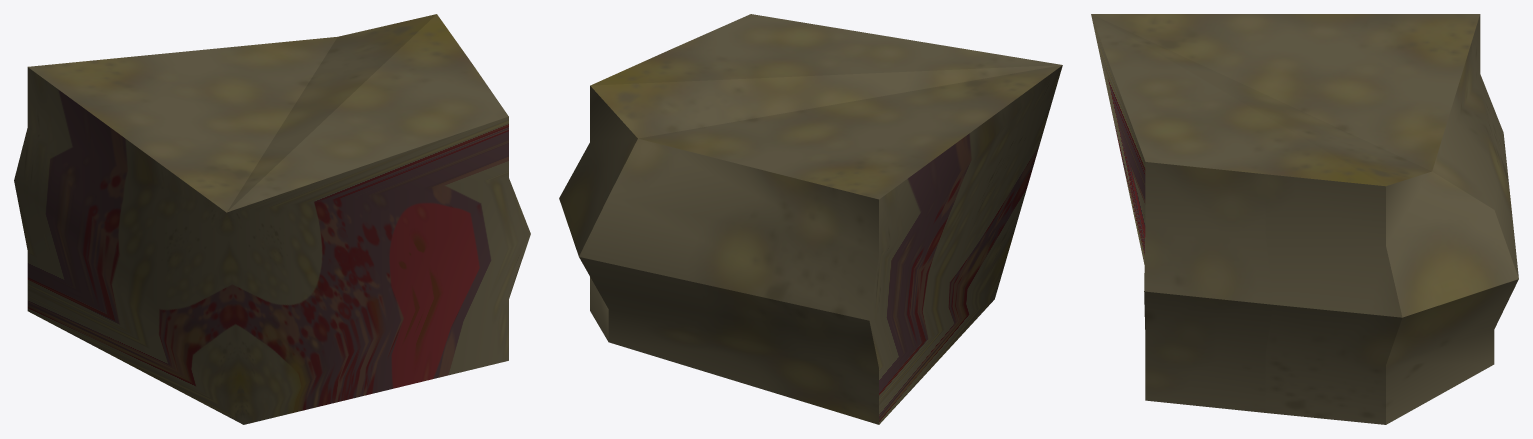
The model's file is ishi_02_3_2.fbx.
3 views of the same model, side by side, from view 1: azimuth 30°, elevation 25°; view 2: azimuth 150°, elevation 25°; view 3: azimuth 270°, elevation 25° (orthographic). The views are drawn at different scales.
Visible parts, largest first — view 1: polySurface19; view 2: polySurface19; view 3: polySurface19.
Boxes of the visible parts, x1,y1,x2,y2 form: polySurface19: (14,14,530,424); polySurface19: (559,14,1062,424); polySurface19: (1091,14,1518,424).
Size of the model in its own units: 8.54 by 5.14 by 8.35.
Materials: 1 (1 with a texture image).
